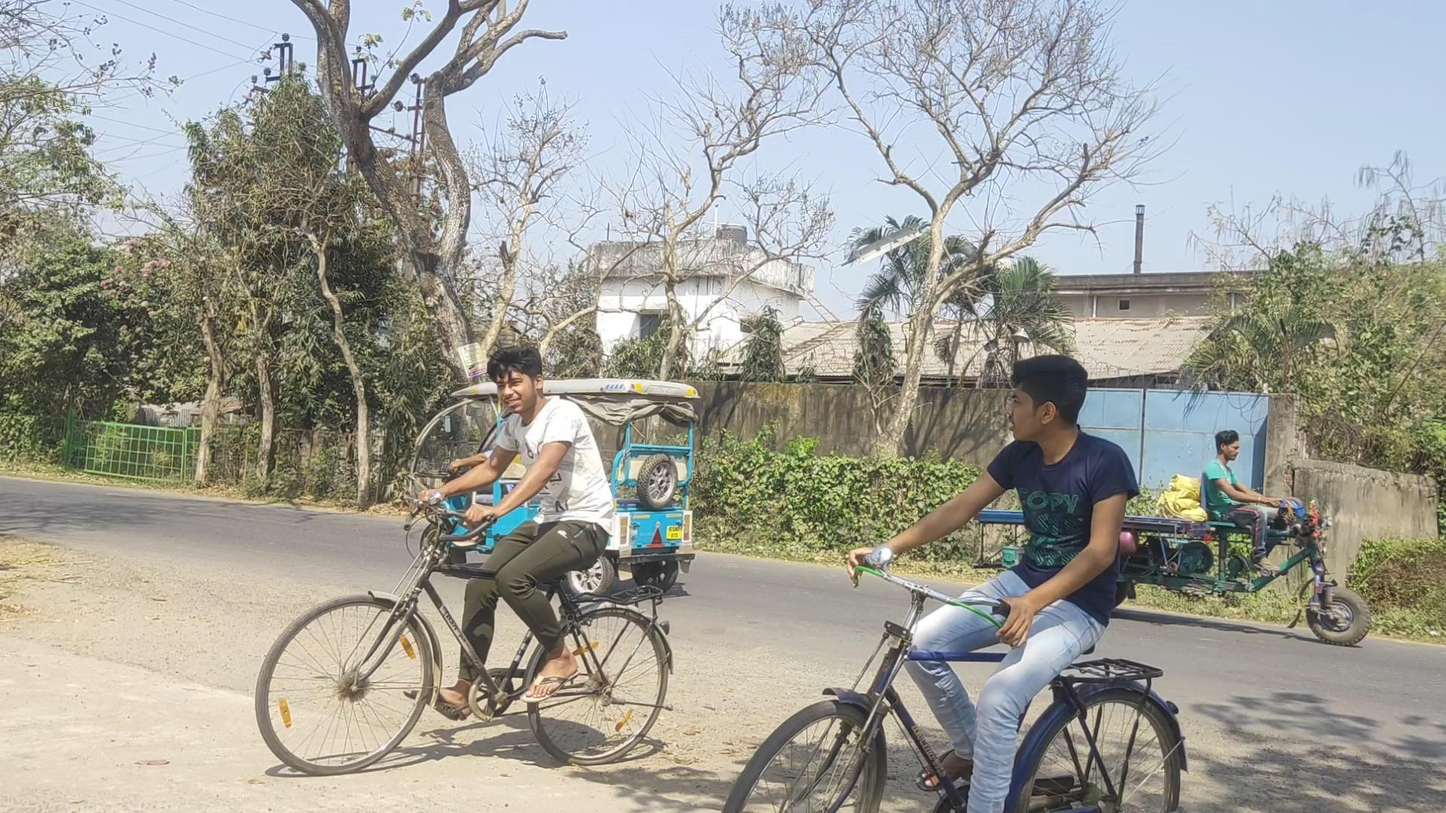Auto: (405, 377, 700, 602)
bike: (721, 355, 1188, 813), (255, 343, 675, 776)
